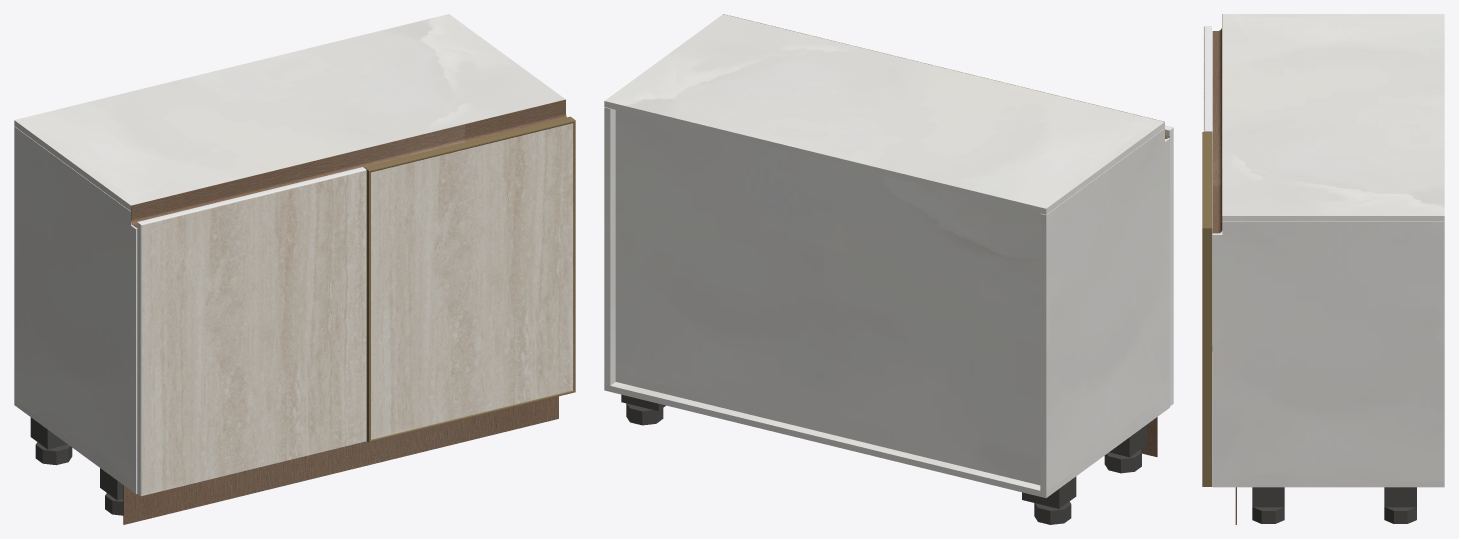
Rendered from BB-SH-CJ-ST-1SX-LHS-XXX-1150-720-560-15.glb.
3 renders of one model, left to right at view 1: azimuth 30°, elevation 25°; view 2: azimuth 150°, elevation 25°; view 3: azimuth 270°, elevation 25°, orthographic. The views are drawn at different scales.
Visible parts, largest first — view 1: TP_node_3, Object_node_11, TP_node_1, TP_node, Object_node_13, ExtrSplGeo, Extrusion, Extrusion_node_1, ALU PROF FOR SHUTTER 851P IMP_node, ALU PROF FOR SHUTTER 851P IMP_node_1, TP, Extrusion_node (+2 smaller); view 2: TP_node_4, TP_node_1, TP_node, TP, TP_node_0, ALU PROF FOR SHUTTER 851P IMP_node, Plate, Foot, Foot_node_0; view 3: TP_node_0, TP_node_1, Extrusion_node, ExtrSplGeo, TP, Extrusion, ALU PROF FOR SHUTTER 851P IMP_node_1, Plate_node, Plate_node_1, Foot_node_1, Foot_node.
Boxes of the visible parts, box(x1,y1,x2,y2) form: TP_node_3: box(141, 170, 366, 495); Object_node_11: box(371, 123, 573, 439); TP_node_1: box(14, 14, 565, 211); TP_node: box(14, 126, 137, 488); Object_node_13: box(123, 396, 558, 524); ExtrSplGeo: box(131, 99, 566, 227); Extrusion: box(364, 116, 575, 172); Extrusion_node_1: box(363, 167, 370, 442); ALU PROF FOR SHUTTER 851P IMP_node: box(137, 222, 141, 496); ALU PROF FOR SHUTTER 851P IMP_node_1: box(137, 167, 366, 224); TP: box(14, 399, 137, 493); Extrusion_node: box(573, 121, 575, 391); TP_node_4: box(615, 110, 1040, 485); TP_node_1: box(604, 14, 1164, 214); TP_node: box(1040, 128, 1169, 491); TP: box(604, 382, 1169, 497); TP_node_0: box(604, 107, 615, 385); ALU PROF FOR SHUTTER 851P IMP_node: box(1169, 128, 1173, 406); Plate: box(1022, 476, 1076, 508); Foot: box(1034, 501, 1071, 524); Foot_node_0: box(1104, 450, 1141, 473); TP_node_0: box(1212, 221, 1444, 481); TP_node_1: box(1222, 14, 1444, 221); Extrusion_node: box(1202, 228, 1212, 486); ExtrSplGeo: box(1212, 14, 1222, 233); TP: box(1212, 481, 1444, 487); Extrusion: box(1202, 132, 1212, 228); ALU PROF FOR SHUTTER 851P IMP_node_1: box(1204, 26, 1211, 130); Plate_node: box(1384, 487, 1416, 507); Plate_node_1: box(1252, 487, 1284, 507); Foot_node_1: box(1252, 507, 1284, 523); Foot_node: box(1384, 507, 1416, 523).
Size of what is drawn, in the model's own units: 1.15 by 0.82 by 0.5834.
7 materials, 3 textured.
